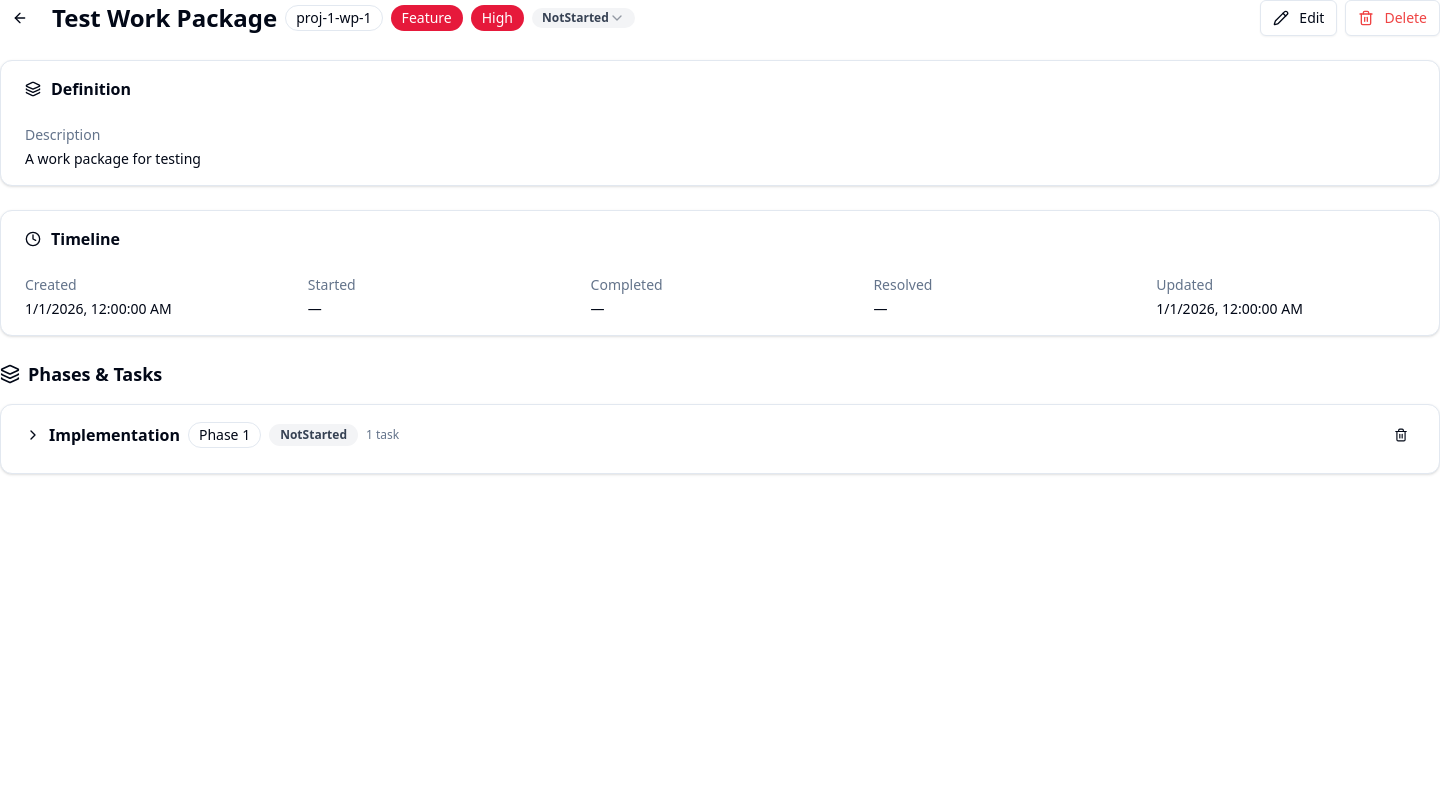
Test: WorkPackageDetailPage › shows WP delete confirmation dialog
The width and height of the screenshot is (1440, 810).
Expected: the heading "Test Work Package" is shown, x1=52 y1=2 x2=277 y2=34
Click the button "Delete" at [1393, 18], box x1=1345 y1=0 x2=1439 y2=36
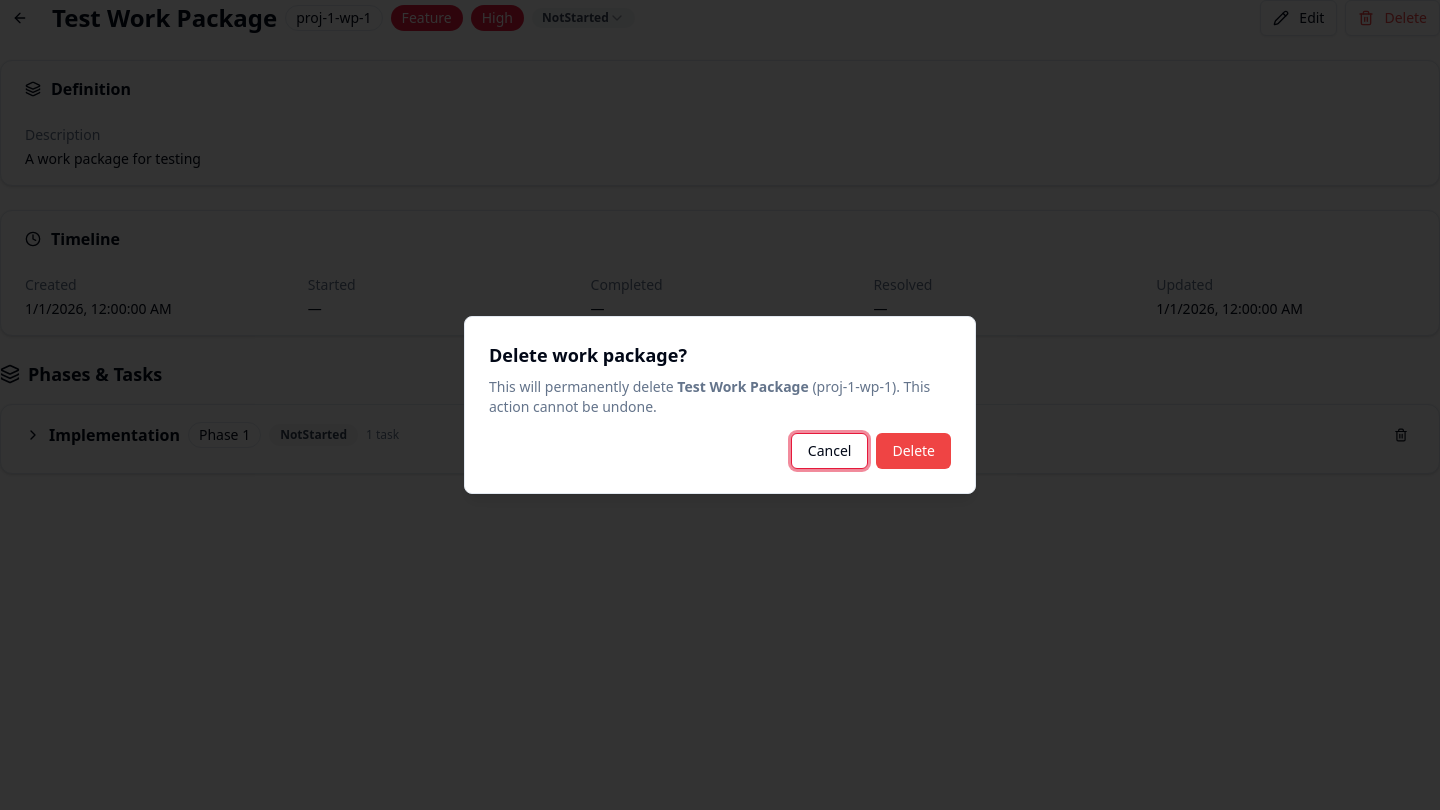
Expected: the heading "Delete work package?" is shown, x1=489 y1=343 x2=687 y2=367
